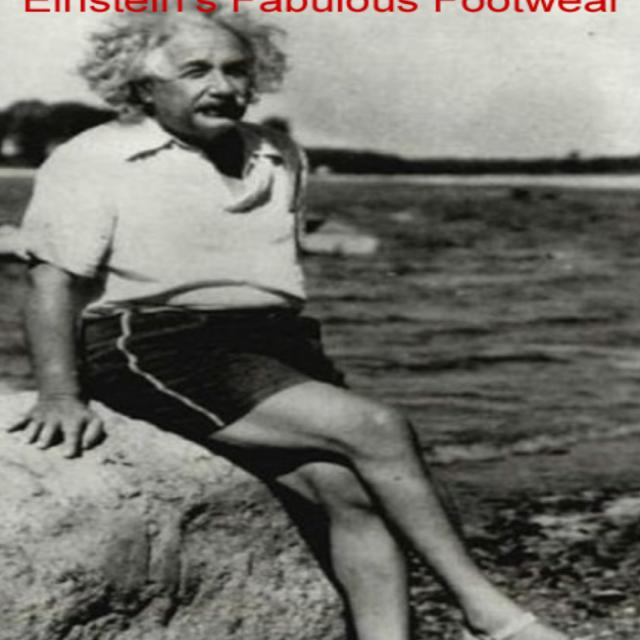sit: (57, 12, 501, 640)
